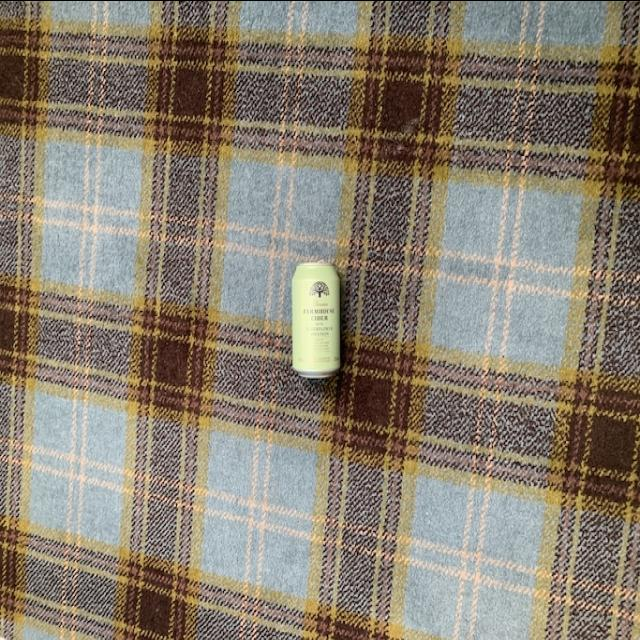Aluminum Can: (292, 256, 346, 382)
